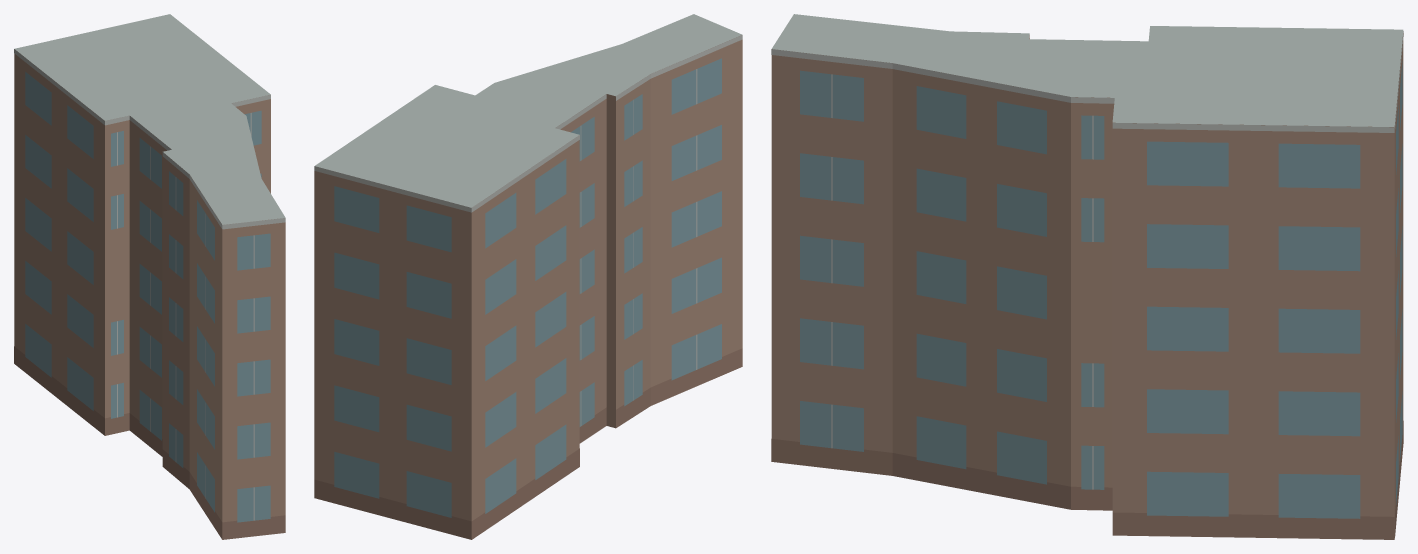
File: survey-upis-32937256.glb
3 views of the same model, side by side, from view 1: azimuth 30°, elevation 25°; view 2: azimuth 150°, elevation 25°; view 3: azimuth 270°, elevation 25° (orthographic). The views are drawn at different scales.
Visible parts, largest first — view 1: survey-upis-32937256.tmp; view 2: survey-upis-32937256.tmp; view 3: survey-upis-32937256.tmp.
Boxes of the visible parts, x1=… form: survey-upis-32937256.tmp: x1=14, y1=14, x2=285, y2=539; survey-upis-32937256.tmp: x1=314, y1=14, x2=742, y2=539; survey-upis-32937256.tmp: x1=771, y1=14, x2=1403, y2=539.
Size of the model in its own units: 10 by 17 by 23.6.
